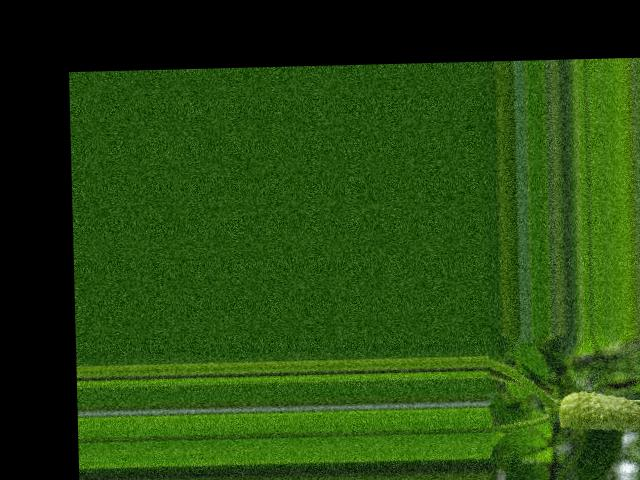cucumber: (557, 389, 640, 431)
